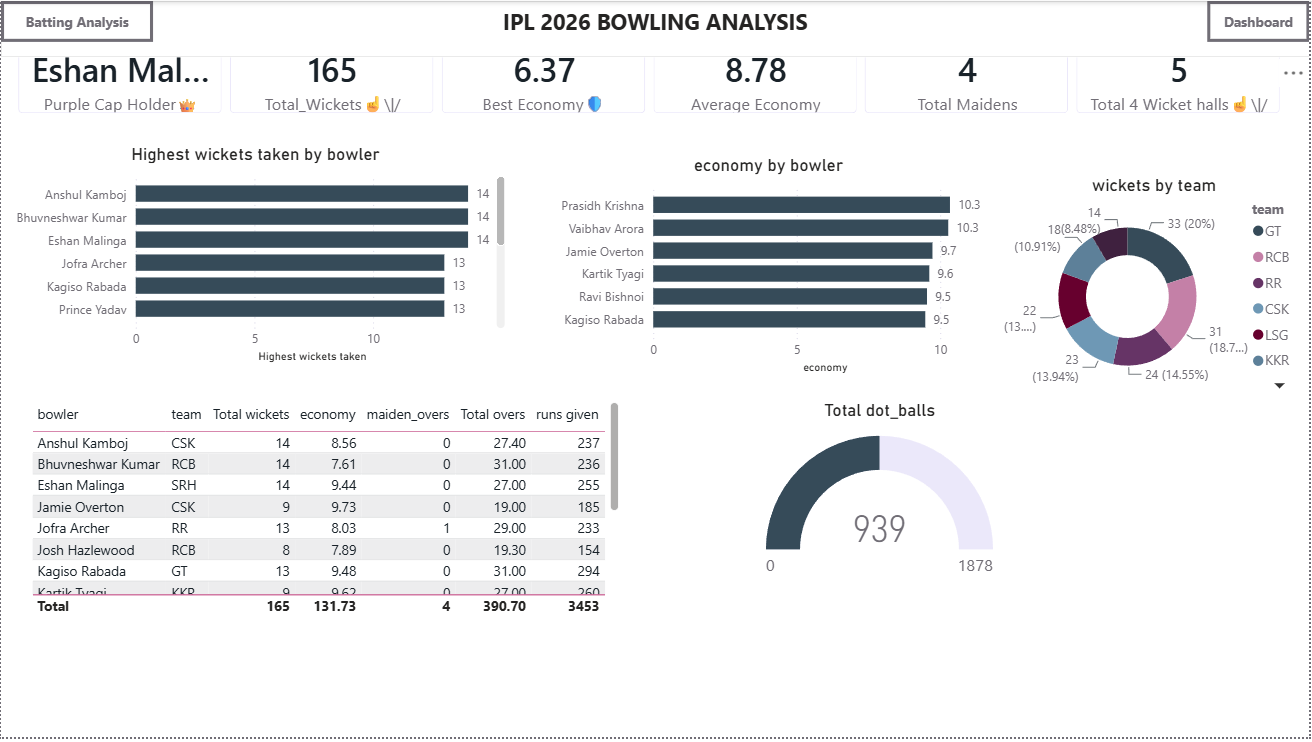

Layout of this report page (visuals, bound fields, positions):
{"tool":"powerbi","page":{"name":"Bowling Analysis","canvas":[1280,720],"ordinal":2},"visuals":[{"type":"cardVisual","fields":{"Data":["_Measures3.Purple Cap Holder","_Measures3.Total_Wickets","_Measures3.Best Economy","_Measures3.Average Economy","_Measures3.Total Maidens","Sum(bowling_stats.4wh)"]},"box":[0,27.4,1272,100],"z":0},{"type":"barChart","fields":{"Category":["bowling_stats.bowler"],"Y":["Sum(bowling_stats.wickets)"]},"box":[0,140,498.1,219.6],"z":1000},{"type":"barChart","fields":{"Category":["bowling_stats.bowler"],"Y":["Sum(bowling_stats.economy)"]},"box":[506.7,150,488.9,218.9],"z":1001},{"type":"donutChart","fields":{"Category":["bowling_stats.team"],"Y":["Sum(bowling_stats.wickets)"]},"box":[975.6,170.2,304.6,219.6],"z":1002},{"type":"tableEx","fields":{"Values":["bowling_stats.bowler","bowling_stats.team","Sum(bowling_stats.wickets)","Sum(bowling_stats.economy)","Sum(bowling_stats.maiden_overs)","Sum(bowling_stats.overs)","Sum(bowling_stats.runs)"]},"box":[25,387.5,585,218.8],"z":1003},{"type":"textbox","box":[0,0,1280.3,54.9],"z":1004},{"type":"gauge","fields":{"Y":["Sum(bowling_stats.dot_balls)"]},"box":[743.3,390,232.2,194.4],"z":1005},{"type":"actionButton","box":[0,0,148.8,40],"z":1006},{"type":"actionButton","box":[1180,0,100,40],"z":1007}]}

Visuals, with their boxes in screenshot pixels (x1, y1, x2, y2), scaled from the page's 1280x720 canvas onto the 1312x742 screenshot:
cardVisual - _Measures3.Purple Cap Holder x _Measures3.Total_Wickets: [left=0, top=28, right=1304, bottom=131]
barChart - bowling_stats.bowler x Sum(bowling_stats.wickets): [left=0, top=144, right=511, bottom=371]
barChart - bowling_stats.bowler x Sum(bowling_stats.economy): [left=519, top=155, right=1020, bottom=380]
donutChart - bowling_stats.team x Sum(bowling_stats.wickets): [left=1000, top=175, right=1311, bottom=402]
tableEx - bowling_stats.bowler x bowling_stats.team: [left=26, top=399, right=625, bottom=625]
textbox: [left=0, top=0, right=1311, bottom=57]
gauge - Sum(bowling_stats.dot_balls): [left=762, top=402, right=1000, bottom=602]
actionButton: [left=0, top=0, right=153, bottom=41]
actionButton: [left=1210, top=0, right=1311, bottom=41]
